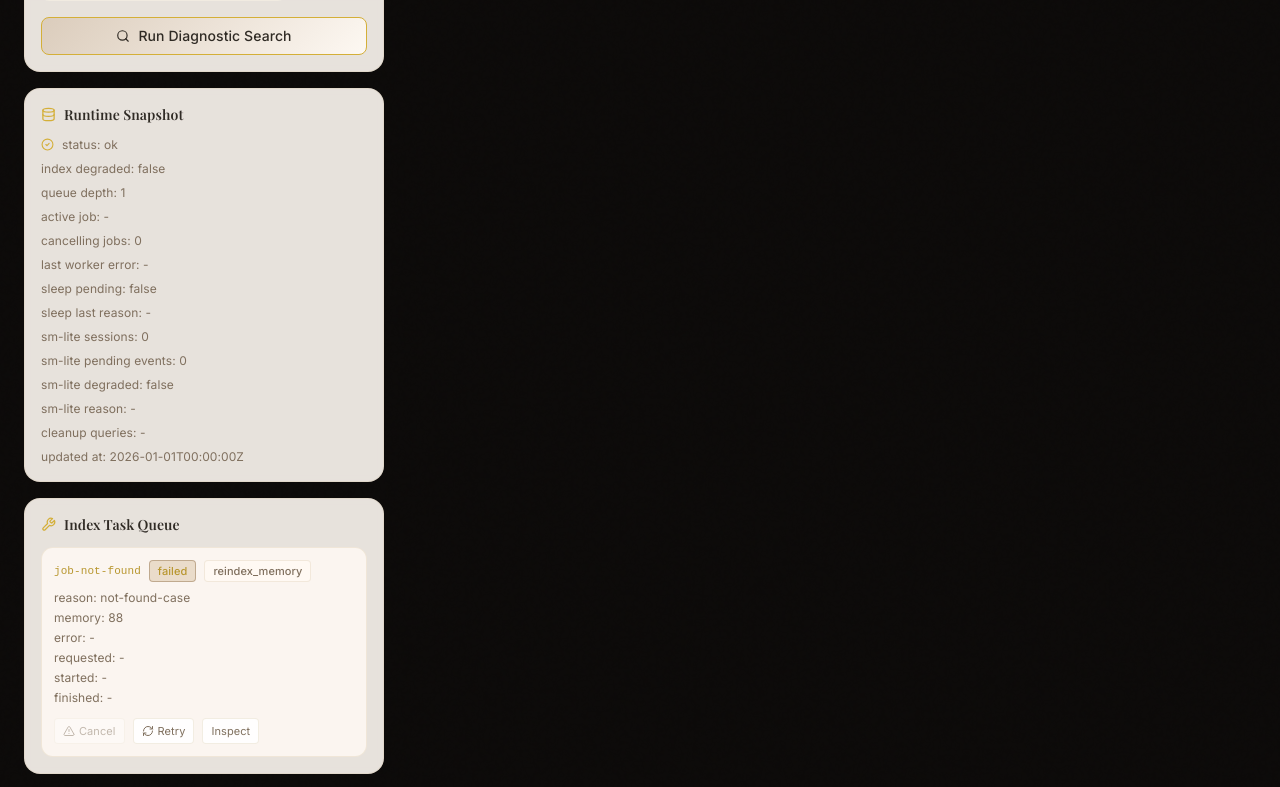
Test: ObservabilityPage › does not fallback to legacy endpoints when retry returns job_not_found
(page scrolled)
Expected: the text "job-not-found" is shown, [54,564,141,576]
Click the button "Retry" at (164, 730), box [133,718,194,744]
(page scrolled)
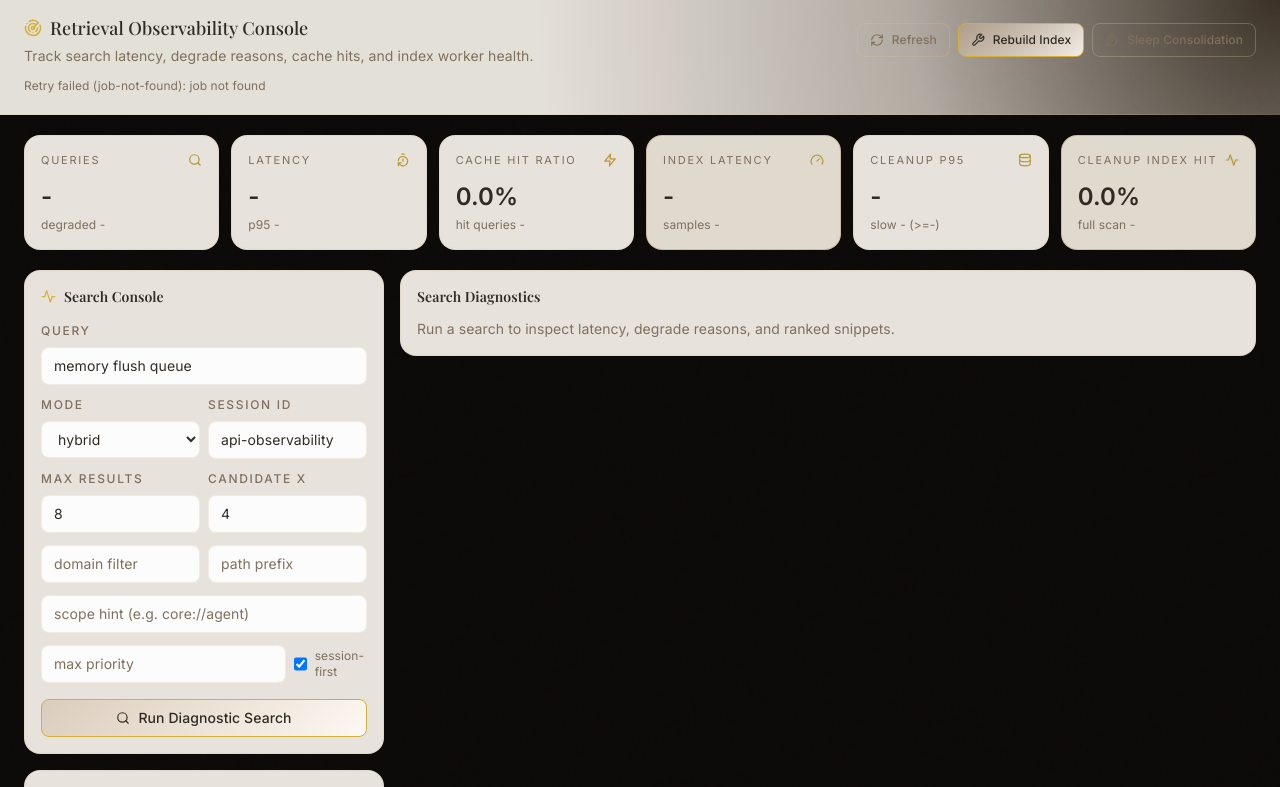
Expected: the text "Retry failed (job-not-found): job not found" is shown, [24,78,266,93]
